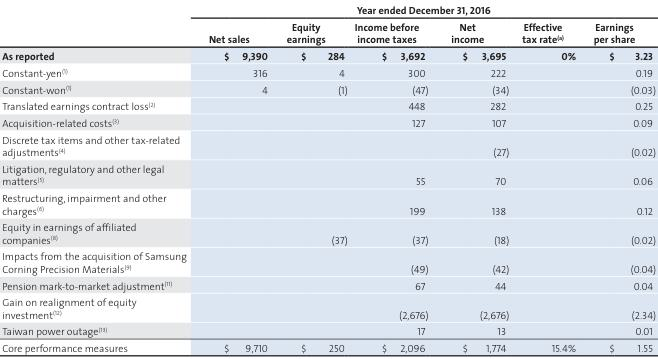table: (1, 1, 655, 355)
table column: (1, 1, 196, 355), (350, 1, 438, 355), (196, 1, 276, 355), (438, 1, 514, 355), (276, 1, 350, 355), (583, 1, 655, 355), (514, 1, 583, 355)
table column header: (1, 1, 655, 47)
table row: (1, 188, 655, 218), (1, 18, 655, 47), (1, 130, 655, 159), (1, 159, 655, 188), (1, 218, 655, 247), (1, 247, 655, 276), (1, 293, 655, 322), (1, 1, 655, 18), (1, 63, 655, 80), (1, 80, 655, 97), (1, 113, 655, 130), (1, 276, 655, 293), (1, 338, 655, 355), (1, 47, 655, 63), (1, 97, 655, 113), (1, 322, 655, 338)
table spanning cell: (196, 1, 655, 18)
